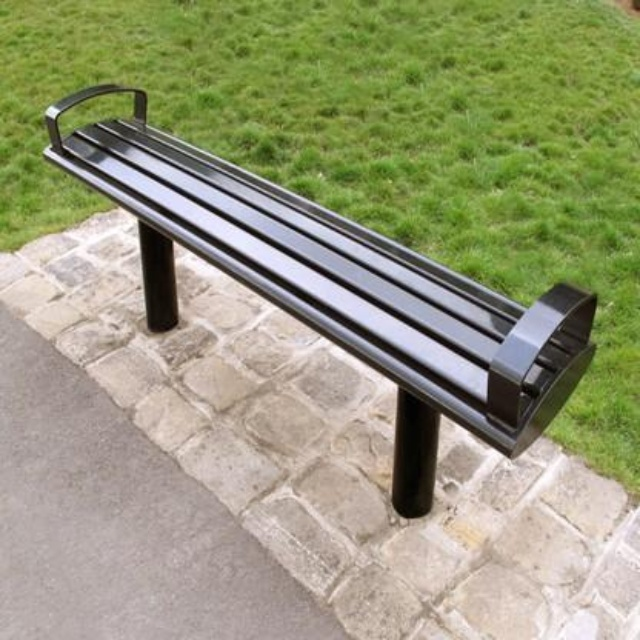obstacle: (26, 52, 614, 525)
